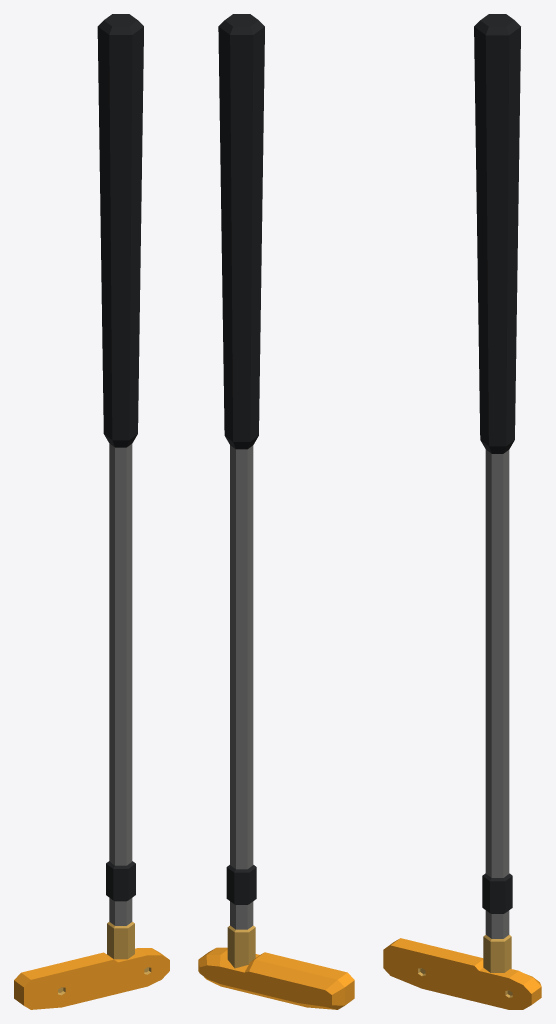
File: SM_Prop_Minigolf_Club_01.fbx
3 renders of one model, left to right at view 1: azimuth 30°, elevation 25°; view 2: azimuth 150°, elevation 25°; view 3: azimuth 330°, elevation 25°, orthographic.
Visible parts, largest first — view 1: SM_Prop_Minigolf_Club_01; view 2: SM_Prop_Minigolf_Club_01; view 3: SM_Prop_Minigolf_Club_01.
Boxes of the visible parts, x1=… form: SM_Prop_Minigolf_Club_01: x1=14, y1=14, x2=169, y2=1009; SM_Prop_Minigolf_Club_01: x1=198, y1=14, x2=354, y2=1009; SM_Prop_Minigolf_Club_01: x1=383, y1=14, x2=541, y2=1009.
Size of the model in its own units: 15.54 by 98.14 by 4.28.
